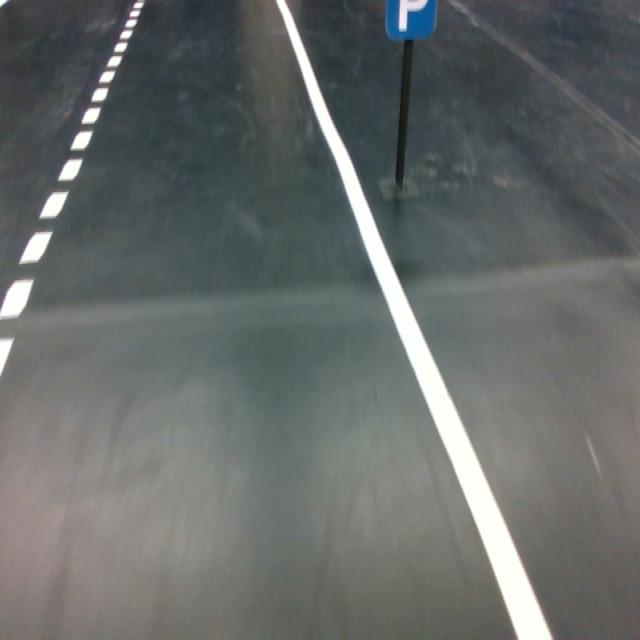parking-sign: (385, 0, 438, 41)
